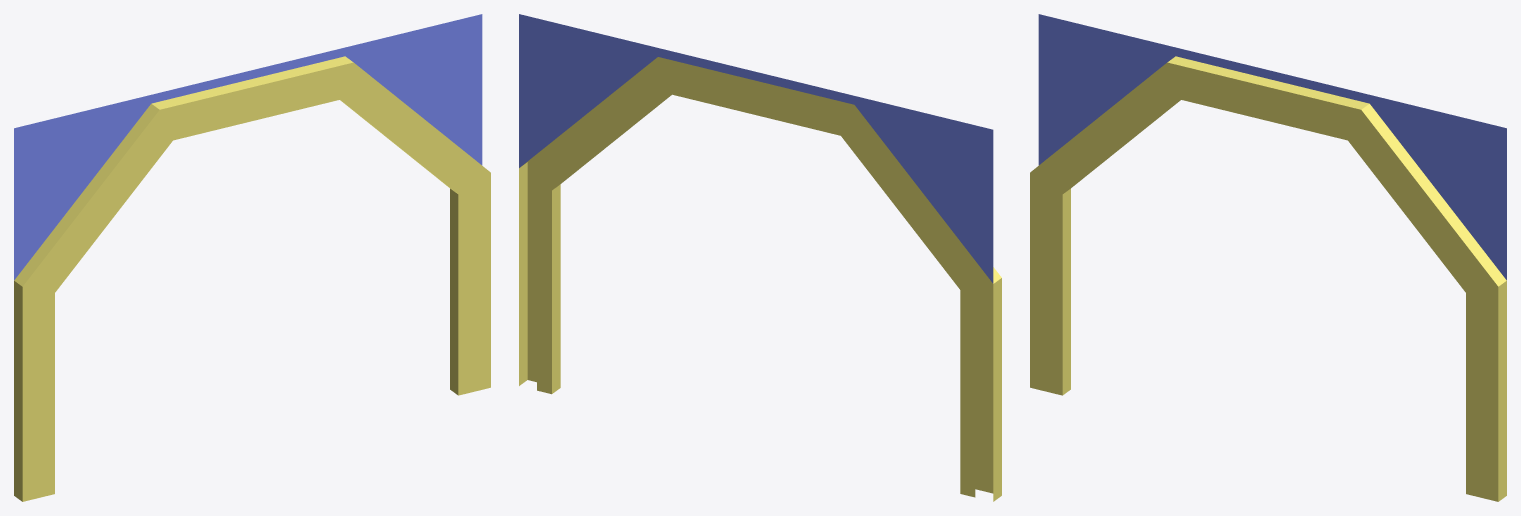
Rendered from SM_Tunnel_Out.fbx.
3 views of the same model, side by side, from view 1: azimuth 30°, elevation 25°; view 2: azimuth 150°, elevation 25°; view 3: azimuth 330°, elevation 25° (orthographic).
Parts seen in each view (by area): view 1: Cylinder016; view 2: Cylinder016; view 3: Cylinder016.
Part boxes in pixels (box(x1,y1,x2,y2)): Cylinder016: box(14, 14, 490, 501); Cylinder016: box(519, 14, 1001, 501); Cylinder016: box(1030, 14, 1506, 501).
Bounding box in the file's own units: 315 × 236 × 9.84.
